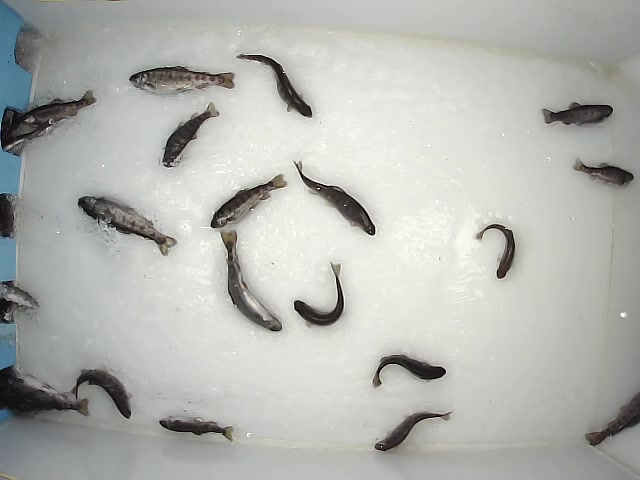fish: (218, 228, 283, 333), (293, 157, 377, 238), (75, 195, 178, 256), (236, 52, 313, 119), (207, 171, 289, 229), (128, 62, 236, 99), (1, 375, 89, 420), (292, 260, 349, 329), (162, 101, 220, 168), (374, 406, 451, 453), (10, 86, 96, 128), (69, 366, 132, 419), (367, 352, 447, 390), (156, 413, 236, 445), (474, 221, 516, 279), (539, 100, 614, 129), (570, 154, 634, 186)
